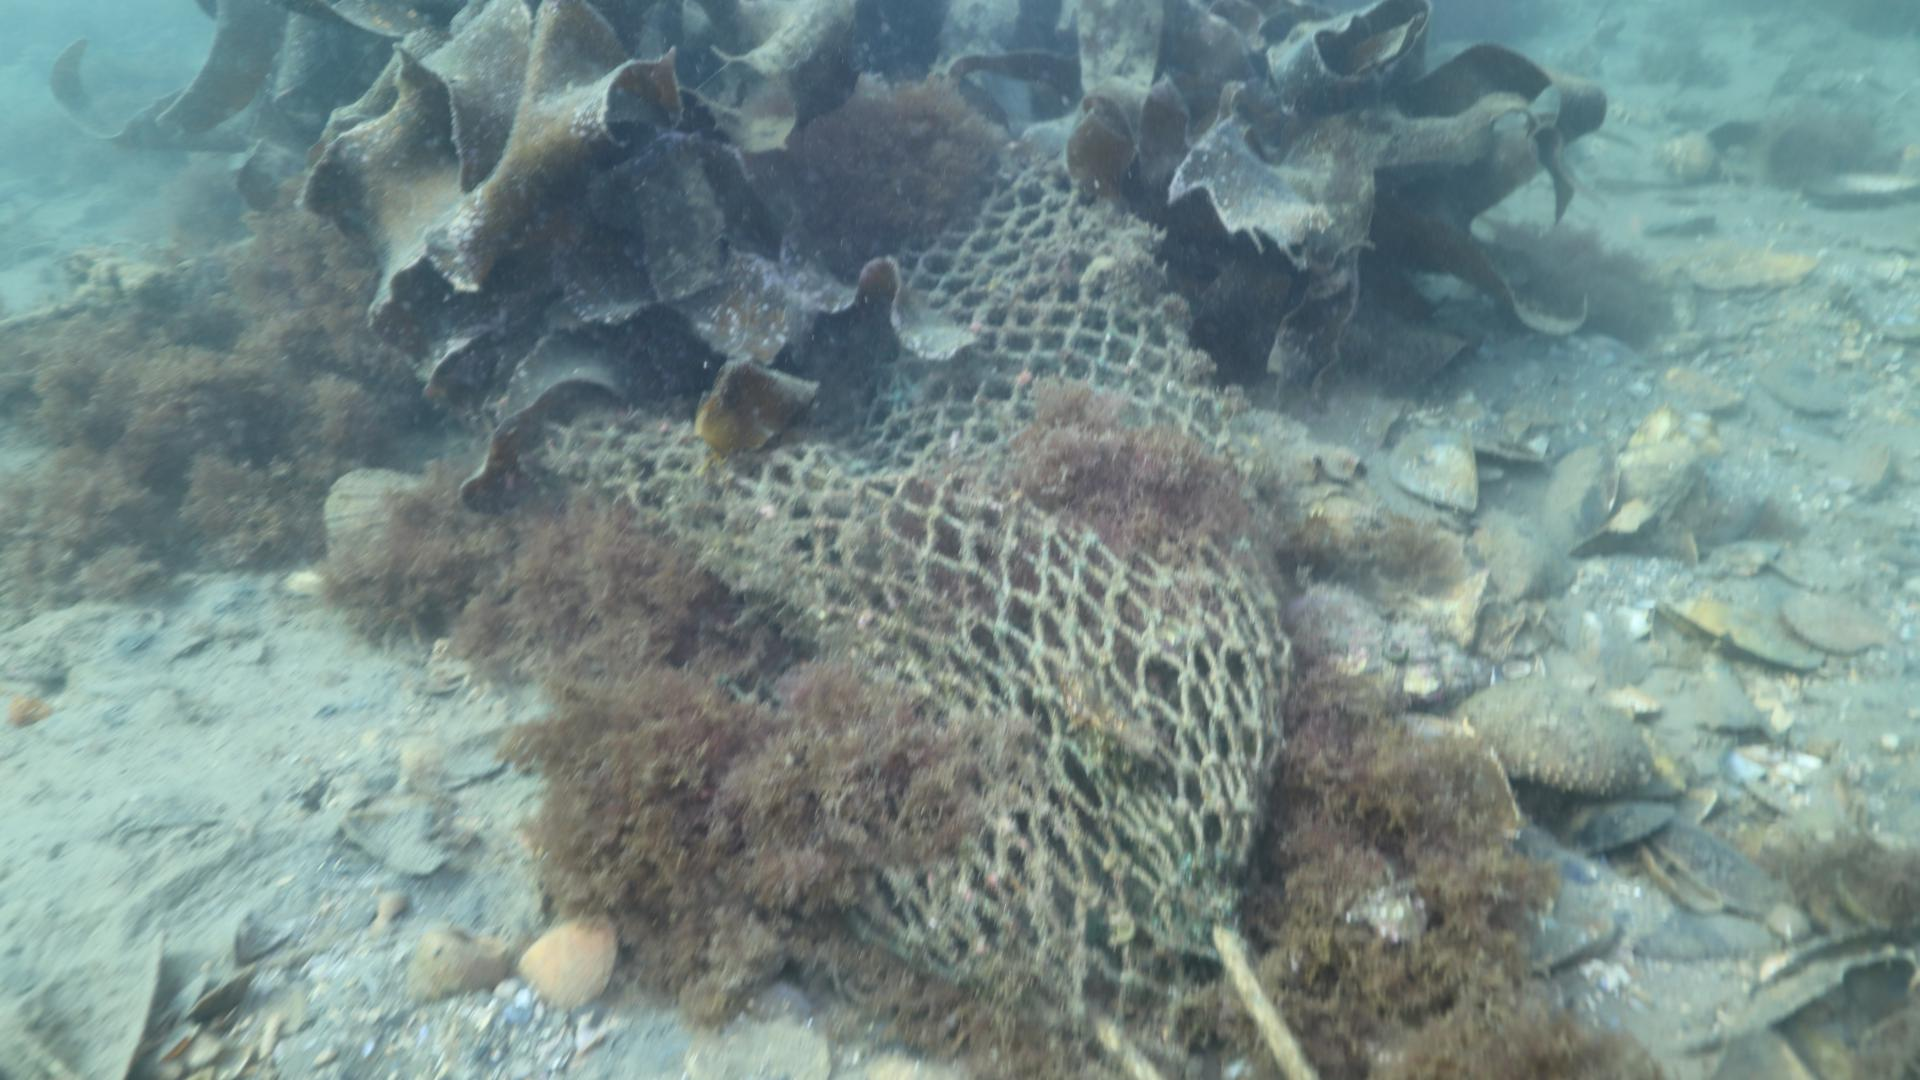fish net: (539, 158, 1295, 1058)
